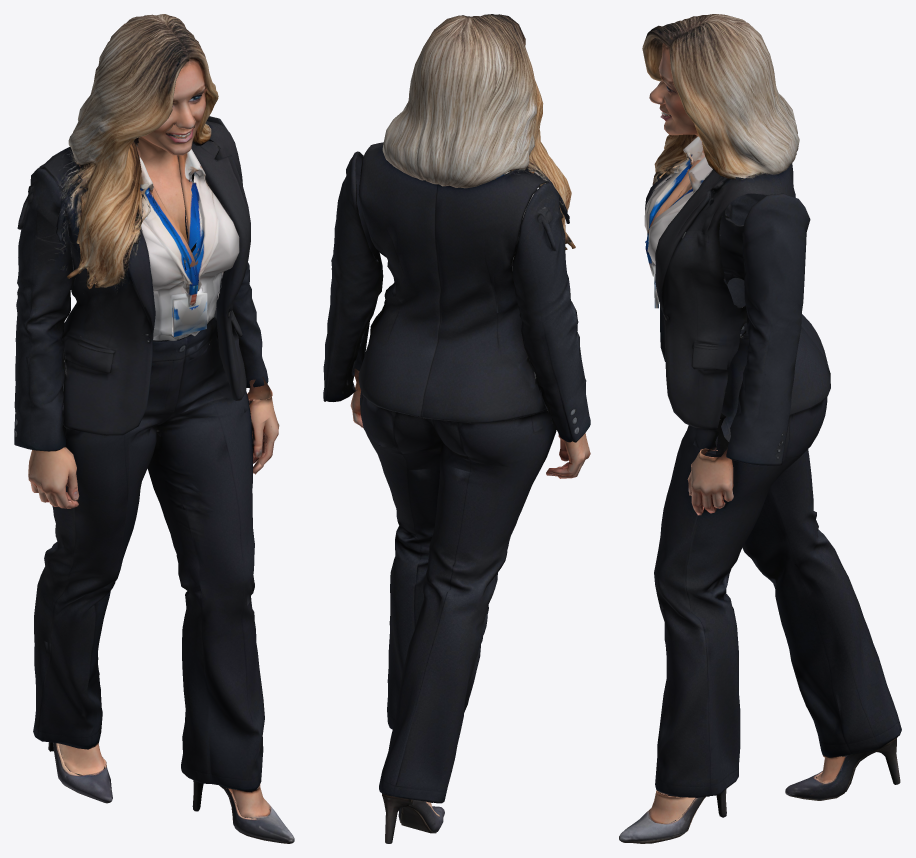
Rendered from businesswoman 3d model.glb.
3 renders of one model, left to right at view 1: azimuth 30°, elevation 25°; view 2: azimuth 150°, elevation 25°; view 3: azimuth 270°, elevation 25°, orthographic. The views are drawn at different scales.
Visible parts, largest first — view 1: tripo_part_0, tripo_part_2, tripo_part_1, tripo_part_3, tripo_part_5, tripo_part_9, tripo_part_4, tripo_part_7, tripo_part_6, tripo_part_8, tripo_part_10, tripo_part_11; view 2: tripo_part_0, tripo_part_1, tripo_part_2, tripo_part_3, tripo_part_4, tripo_part_6, tripo_part_9; view 3: tripo_part_0, tripo_part_1, tripo_part_2, tripo_part_4, tripo_part_5, tripo_part_7, tripo_part_6, tripo_part_8, tripo_part_10, tripo_part_3.
Boxes of the visible parts, x1,y1,x2,y2 form: tripo_part_0: [33, 317, 264, 791]; tripo_part_2: [67, 14, 218, 289]; tripo_part_1: [39, 121, 250, 435]; tripo_part_3: [14, 168, 81, 451]; tripo_part_5: [139, 149, 239, 341]; tripo_part_9: [28, 447, 79, 508]; tripo_part_4: [207, 116, 268, 387]; tripo_part_7: [247, 377, 279, 474]; tripo_part_6: [48, 742, 112, 803]; tripo_part_8: [226, 788, 294, 843]; tripo_part_10: [192, 780, 269, 820]; tripo_part_11: [58, 743, 105, 775]; tripo_part_0: [360, 361, 556, 803]; tripo_part_1: [358, 142, 560, 423]; tripo_part_2: [382, 14, 575, 249]; tripo_part_3: [512, 170, 590, 442]; tripo_part_4: [323, 151, 383, 401]; tripo_part_6: [382, 794, 444, 843]; tripo_part_9: [546, 433, 590, 478]; tripo_part_0: [654, 336, 901, 797]; tripo_part_1: [645, 163, 830, 429]; tripo_part_2: [642, 14, 799, 201]; tripo_part_4: [726, 193, 810, 465]; tripo_part_5: [644, 136, 712, 308]; tripo_part_7: [687, 448, 733, 515]; tripo_part_6: [785, 737, 900, 800]; tripo_part_8: [619, 794, 704, 843]; tripo_part_10: [648, 789, 726, 831]; tripo_part_3: [721, 174, 765, 336].
Size of the model in its own units: 0.3236 by 0.9801 by 0.3195.
14 materials, 14 textured.
